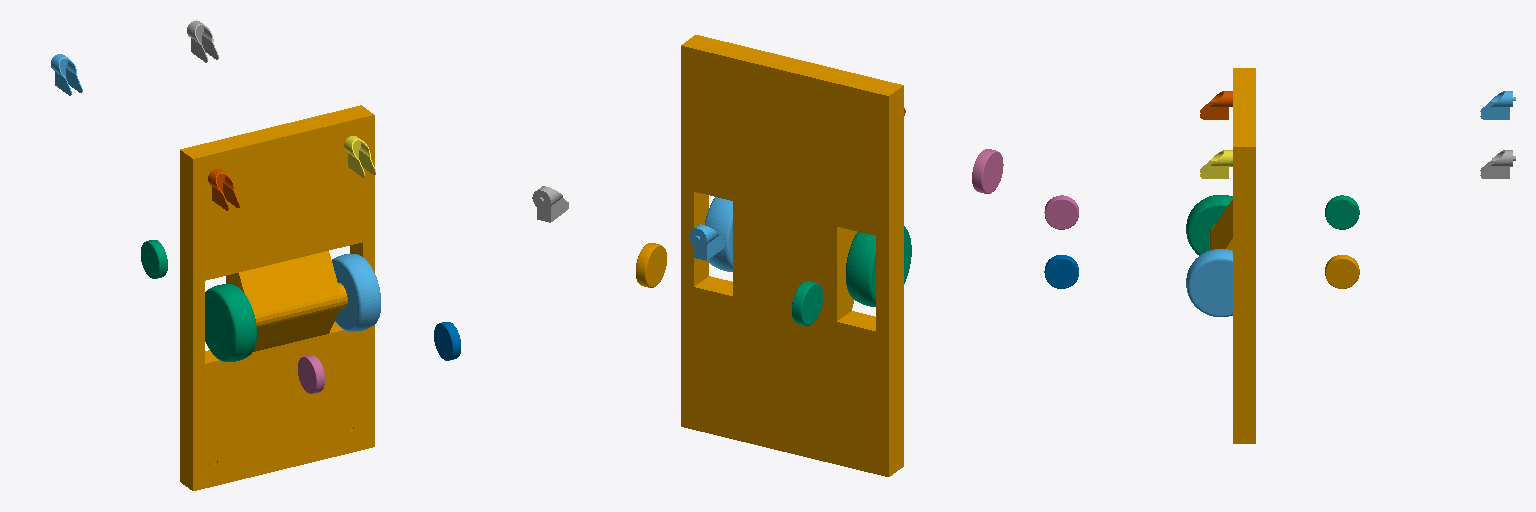
The robot description file, URDF, robot "arc-bot-2":
<?xml version="1.0" ?>
<robot name="arc-bot-2">

  <material name="white">
    <color rgba="0.700 0.700 0.700 1.0"/>
  </material>
  <material name="dark">
    <color rgba="0.1 0.1 0.1 1.0"/>
  </material>
  <material name="metal">
    <color rgba="0.45 0.45 0.45 1.0"/>
  </material>
  <material name="blue">
    <color rgba="0.23 0.23 0.44 1.0"/>
  </material>

  <link name="base_link">
    <inertial>
      <origin xyz="5.959159644551385e-16 -8.513085206501979e-17 0.12187719245645033" rpy="0 0 0"/>
      <mass value="107.34771873814509"/>
      <inertia ixx="4.505164702504547" iyy="1.3309390396719774" izz="5.765242876816964" ixy="-5.445839279532476e-30" iyz="-1.1137872477797035e-15" ixz="3.0444372974824466e-15"/>
    </inertial>
    <visual>
      <origin xyz="0 0 0" rpy="-1.57079632679 0 0"/>
      <geometry>
        <mesh filename="meshes/base_link.stl" scale="0.001 0.001 0.001"/>
      </geometry>
      <material name="white"/>
      <material/>
    </visual>
    <collision>
      <origin xyz="0 0 0" rpy="-1.57079632679 0 0"/>
      <geometry>
        <mesh filename="meshes/base_link.stl" scale="0.001 0.001 0.001"/>
      </geometry>
    </collision>
  </link>

  <!-- DRIVE WHEELS -->

  <link name="drive_wheel_left">
    <inertial>
      <origin xyz="0.025000001258671342 8.399471678820184e-07 2.016479592729936e-05" rpy="0 0 0"/>
      <mass value="6.575317753803416"/>
      <inertia ixx="0.017576695509416068" iyy="0.010097567859487344" izz="0.010097543017547408" ixy="1.746670854310247e-11" iyz="1.8832109802272806e-08" ixz="1.4782201157581554e-09"/>
    </inertial>
    <visual>
      <origin xyz="-0.112 0.0 -0.075" rpy="-1.57079632679 0 0"/>
      <geometry>
        <mesh filename="meshes/drive_wheel2.stl" scale="0.001 0.001 0.001"/>
      </geometry>
      <material name="dark"/>
      <material/>
    </visual>
    <collision>
      <origin xyz="-0.112 0.0 -0.075" rpy="-1.57079632679 0 0"/>
      <geometry>
        <mesh filename="meshes/drive_wheel2.stl" scale="0.001 0.001 0.001"/>
      </geometry>
    </collision>
  </link>

  <link name="drive_wheel_right">
    <inertial>
      <origin xyz="-0.024999998741328702 8.399471678820184e-07 -1.9954997748997116e-05" rpy="0 0 0"/>
      <mass value="6.575317753803416"/>
      <inertia ixx="0.017576695509416068" iyy="0.010097567859487372" izz="0.01009754301754738" ixy="1.746670854320835e-11" iyz="1.8832109802272753e-08" ixz="1.478220143513731e-09"/>
    </inertial>
    <visual>
      <origin xyz="0.112 0.0 -0.075" rpy="-1.57079632679 0 0"/>
      <geometry>
        <mesh filename="meshes/drive_wheel1.stl" scale="0.001 0.001 0.001"/>
      </geometry>
      <material name="dark"/>
      <material/>
    </visual>
    <collision>
      <origin xyz="0.112 0.0 -0.075" rpy="-1.57079632679 0 0"/>
      <geometry>
        <mesh filename="meshes/drive_wheel1.stl" scale="0.001 0.001 0.001"/>
      </geometry>
    </collision>
  </link>

  <!-- CASTER WHEELS -->

  <link name="caster_bracket_fl">
    <inertial>
      <origin xyz="-8.493206138382448e-15 0.010475317633716452 -0.02267541961025038" rpy="0 0 0"/>
      <mass value="0.16207930958391914"/>
      <inertia ixx="9.076311533944524e-05" iyy="6.70912859518898e-05" izz="6.081469735370881e-05" ixy="-1.3877787807814457e-17" iyz="2.600926877512153e-05" ixz="2.862293735361732e-17"/>
    </inertial>
    <visual>
      <origin xyz="-0.15 0.3 -0.105" rpy="-1.57079632679 0 0"/>
      <geometry>
        <mesh filename="meshes/simple_caster_bracket_v51.stl" scale="0.001 0.001 0.001"/>
      </geometry>
      <material name="dark"/>
      <material/>
    </visual>
    <!-- <collision>
    <origin xyz="-0.15 0.3 -0.105" rpy="-1.57079632679 0 0"/>
    <geometry>
      <mesh filename="meshes/simple_caster_bracket_v51.stl" scale="0.001 0.001 0.001"/>
    </geometry>
  </collision> -->
  </link>

  <link name="caster_wheel_fl">
    <inertial>
      <origin xyz="-0.1599999998360872 0.3 -0.1" rpy="0 0 0"/>
      <mass value="0.670125387642777"/>
      <inertia ixx="0.0004554214921724045" iyy="0.00024968084295089177" izz="0.00024968084295089177" ixy="-3.469446951953614e-18" iyz="8.673617379884035e-19" ixz="-4.336808689942018e-19"/>
    </inertial>
    <visual>
      <origin xyz="0.011 0 0" rpy="0 0 0"/>
      <geometry>
        <mesh filename="meshes/simepl_caster_wheel_clean.stl" scale="0.001 0.001 0.001"/>
      </geometry>
      <material name="blue"/>
      <material/>
    </visual>
    <collision>
      <origin xyz="0.011 0 0" rpy="0 0 0"/>
      <geometry>
        <mesh filename="meshes/simepl_caster_wheel_clean.stl" scale="0.001 0.001 0.001"/>
      </geometry>
    </collision>
  </link>

  <link name="caster_bracket_fr">
    <inertial>
      <origin xyz="-8.493206138382448e-15 0.010475317633716452 -0.02267541961025038" rpy="0 0 0"/>
      <mass value="0.16207930958391914"/>
      <inertia ixx="9.076311533944524e-05" iyy="6.70912859518898e-05" izz="6.081469735370881e-05" ixy="-1.3877787807814457e-17" iyz="2.600926877512153e-05" ixz="2.862293735361732e-17"/>
    </inertial>
    <visual>
      <origin xyz="-0.15 0.3 -0.105" rpy="-1.57079632679 0 0"/>
      <geometry>
        <mesh filename="meshes/simple_caster_bracket_v51.stl" scale="0.001 0.001 0.001"/>
      </geometry>
      <material name="dark"/>
      <material/>
    </visual>
    <!-- <collision>
    <origin xyz="-0.15 0.3 -0.105" rpy="-1.57079632679 0 0"/>
    <geometry>
      <mesh filename="meshes/simple_caster_bracket_v51.stl" scale="0.001 0.001 0.001"/>
    </geometry>
  </collision> -->
  </link>

  <link name="caster_wheel_fr">
    <inertial>
      <origin xyz="-0.1599999998360872 0.3 -0.1" rpy="0 0 0"/>
      <mass value="0.670125387642777"/>
      <inertia ixx="0.0004554214921724045" iyy="0.00024968084295089177" izz="0.00024968084295089177" ixy="-3.469446951953614e-18" iyz="8.673617379884035e-19" ixz="-4.336808689942018e-19"/>
    </inertial>
    <visual>
      <origin xyz="-0.011 0 0" rpy="0 0 0"/>
      <geometry>
        <mesh filename="meshes/simepl_caster_wheel_clean.stl" scale="0.001 0.001 0.001"/>
      </geometry>
      <material name="blue"/>
      <material/>
    </visual>
    <collision>
      <origin xyz="0.011 0 0" rpy="0 0 0"/>
      <geometry>
        <mesh filename="meshes/simepl_caster_wheel_clean.stl" scale="0.001 0.001 0.001"/>
      </geometry>
    </collision>
  </link>

  <link name="caster_bracket_bl">
    <inertial>
      <origin xyz="-8.493206138382448e-15 0.010475317633716452 -0.02267541961025038" rpy="0 0 0"/>
      <mass value="0.16207930958391914"/>
      <inertia ixx="9.076311533944524e-05" iyy="6.70912859518898e-05" izz="6.081469735370881e-05" ixy="-1.3877787807814457e-17" iyz="2.600926877512153e-05" ixz="2.862293735361732e-17"/>
    </inertial>
    <visual>
      <origin xyz="-0.15 0.3 -0.105" rpy="-1.57079632679 0 0"/>
      <geometry>
        <mesh filename="meshes/simple_caster_bracket_v51.stl" scale="0.001 0.001 0.001"/>
      </geometry>
      <material name="dark"/>
      <material/>
    </visual>
    <!-- <collision>
    <origin xyz="-0.15 0.3 -0.105" rpy="-1.57079632679 0 0"/>
    <geometry>
      <mesh filename="meshes/simple_caster_bracket_v51.stl" scale="0.001 0.001 0.001"/>
    </geometry>
  </collision> -->
  </link>

  <link name="caster_wheel_bl">
    <inertial>
      <origin xyz="-0.1599999998360872 0.3 -0.1" rpy="0 0 0"/>
      <mass value="0.670125387642777"/>
      <inertia ixx="0.0004554214921724045" iyy="0.00024968084295089177" izz="0.00024968084295089177" ixy="-3.469446951953614e-18" iyz="8.673617379884035e-19" ixz="-4.336808689942018e-19"/>
    </inertial>
    <visual>
      <origin xyz="0.011 0 0" rpy="0 0 0"/>
      <geometry>
        <mesh filename="meshes/simepl_caster_wheel_clean.stl" scale="0.001 0.001 0.001"/>
      </geometry>
      <material name="blue"/>
      <material/>
    </visual>
    <collision>
      <origin xyz="0.011 0 0" rpy="0 0 0"/>
      <geometry>
        <mesh filename="meshes/simepl_caster_wheel_clean.stl" scale="0.001 0.001 0.001"/>
      </geometry>
    </collision>
  </link>

  <link name="caster_bracket_br">
    <inertial>
      <origin xyz="-8.493206138382448e-15 0.010475317633716452 -0.02267541961025038" rpy="0 0 0"/>
      <mass value="0.16207930958391914"/>
      <inertia ixx="9.076311533944524e-05" iyy="6.70912859518898e-05" izz="6.081469735370881e-05" ixy="-1.3877787807814457e-17" iyz="2.600926877512153e-05" ixz="2.862293735361732e-17"/>
    </inertial>
    <visual>
      <origin xyz="-0.15 0.3 -0.105" rpy="-1.57079632679 0 0"/>
      <geometry>
        <mesh filename="meshes/simple_caster_bracket_v51.stl" scale="0.001 0.001 0.001"/>
      </geometry>
      <material name="dark"/>
      <material/>
    </visual>
    <!-- <collision>
    <origin xyz="-0.15 0.3 -0.105" rpy="-1.57079632679 0 0"/>
    <geometry>
      <mesh filename="meshes/simple_caster_bracket_v51.stl" scale="0.001 0.001 0.001"/>
    </geometry>
  </collision> -->
  </link>

  <link name="caster_wheel_br">
    <inertial>
      <origin xyz="-0.1599999998360872 0.3 -0.1" rpy="0 0 0"/>
      <mass value="0.670125387642777"/>
      <inertia ixx="0.0004554214921724045" iyy="0.00024968084295089177" izz="0.00024968084295089177" ixy="-3.469446951953614e-18" iyz="8.673617379884035e-19" ixz="-4.336808689942018e-19"/>
    </inertial>
    <visual>
      <origin xyz="-0.011 0 0" rpy="0 0 0"/>
      <geometry>
        <mesh filename="meshes/simepl_caster_wheel_clean.stl" scale="0.001 0.001 0.001"/>
      </geometry>
      <material name="blue"/>
      <material/>
    </visual>
    <collision>
      <origin xyz="0.011 0 0" rpy="0 0 0"/>
      <geometry>
        <mesh filename="meshes/simepl_caster_wheel_clean.stl" scale="0.001 0.001 0.001"/>
      </geometry>
    </collision>
  </link>

  <!-- DRIVE JOINTS -->

  <joint name="Revolute_left" type="continuous">
    <origin xyz="0.112 0.0 0.075" rpy="0 0 0"/>
    <parent link="base_link"/>
    <child link="drive_wheel_left"/>
    <axis xyz="1.0 0.0 0.0"/>
  </joint>
  <transmission name="Revolute_left_tran">
    <type>transmission_interface/SimpleTransmission</type>
    <joint name="Revolute_left">
      <hardwareInterface>PositionJointInterface</hardwareInterface>
    </joint>
    <actuator name="Revolute_left_actr">
      <hardwareInterface>PositionJointInterface</hardwareInterface>
      <mechanicalReduction>1</mechanicalReduction>
    </actuator>
  </transmission>

  <joint name="Revolute_right" type="continuous">
    <origin xyz="-0.112 0.0 0.075" rpy="0 0 0"/>
    <parent link="base_link"/>
    <child link="drive_wheel_right"/>
    <axis xyz="-1.0 0.0 0.0"/>
  </joint>
  <transmission name="Revolute_right_tran">
    <type>transmission_interface/SimpleTransmission</type>
    <joint name="Revolute_right">
      <hardwareInterface>PositionJointInterface</hardwareInterface>
    </joint>
    <actuator name="Revolute_right_actr">
      <hardwareInterface>PositionJointInterface</hardwareInterface>
      <mechanicalReduction>1</mechanicalReduction>
    </actuator>
  </transmission>

  <!-- CASTER JOINTS -->

  <joint name="Revolute_caster_fl" type="continuous">
    <origin xyz="0.15 -0.3 0.105" rpy="0 0 0"/>
    <parent link="base_link"/>
    <child link="caster_bracket_fl"/>
    <axis xyz="0.0 0.0 -1.0"/>
  </joint>
  <transmission name="Revolute_caster_fl_tran">
    <type>transmission_interface/SimpleTransmission</type>
    <joint name="Revolute_caster_fl">
      <hardwareInterface>PositionJointInterface</hardwareInterface>
    </joint>
    <actuator name="Revolute_caster_fl_actr">
      <hardwareInterface>PositionJointInterface</hardwareInterface>
      <mechanicalReduction>1</mechanicalReduction>
    </actuator>
  </transmission>

  <joint name="Revolute_caster_wheel_fl" type="continuous">
    <origin xyz="-0.011 0.0345 -0.0725" rpy="0 0 0"/>
    <parent link="caster_bracket_fl"/>
    <child link="caster_wheel_fl"/>
    <axis xyz="-1.0 0.0 0.0"/>
  </joint>
  <transmission name="Revolute_caster_wheel_fl_tran">
    <type>transmission_interface/SimpleTransmission</type>
    <joint name="Revolute_caster_wheel_fl">
      <hardwareInterface>PositionJointInterface</hardwareInterface>
    </joint>
    <actuator name="Revolute_caster_wheel_fl_actr">
      <hardwareInterface>PositionJointInterface</hardwareInterface>
      <mechanicalReduction>1</mechanicalReduction>
    </actuator>
  </transmission>

  <joint name="Revolute_caster_fr" type="continuous">
    <origin xyz="-0.15 -0.3 0.105" rpy="0 0 0"/>
    <parent link="base_link"/>
    <child link="caster_bracket_fr"/>
    <axis xyz="0.0 0.0 -1.0"/>
  </joint>
  <transmission name="Revolute_caster_fr_tran">
    <type>transmission_interface/SimpleTransmission</type>
    <joint name="Revolute_caster_fr">
      <hardwareInterface>PositionJointInterface</hardwareInterface>
    </joint>
    <actuator name="Revolute_caster_fr_actr">
      <hardwareInterface>PositionJointInterface</hardwareInterface>
      <mechanicalReduction>1</mechanicalReduction>
    </actuator>
  </transmission>

  <joint name="Revolute_caster_wheel_fr" type="continuous">
    <origin xyz="0.011 0.0345 -0.0725" rpy="0 0 0"/>
    <parent link="caster_bracket_fr"/>
    <child link="caster_wheel_fr"/>
    <axis xyz="-1.0 0.0 0.0"/>
  </joint>
  <transmission name="Revolute_caster_wheel_fr_tran">
    <type>transmission_interface/SimpleTransmission</type>
    <joint name="Revolute_caster_wheel_fr">
      <hardwareInterface>PositionJointInterface</hardwareInterface>
    </joint>
    <actuator name="Revolute_caster_wheel_fr_actr">
      <hardwareInterface>PositionJointInterface</hardwareInterface>
      <mechanicalReduction>1</mechanicalReduction>
    </actuator>
  </transmission>

  <joint name="Revolute_caster_bl" type="continuous">
    <origin xyz="0.15 0.3 0.105" rpy="0 0 0"/>
    <parent link="base_link"/>
    <child link="caster_bracket_bl"/>
    <axis xyz="0.0 0.0 -1.0"/>
  </joint>
  <transmission name="Revolute_caster_bl_tran">
    <type>transmission_interface/SimpleTransmission</type>
    <joint name="Revolute_caster_bl">
      <hardwareInterface>PositionJointInterface</hardwareInterface>
    </joint>
    <actuator name="Revolute_caster_bl_actr">
      <hardwareInterface>PositionJointInterface</hardwareInterface>
      <mechanicalReduction>1</mechanicalReduction>
    </actuator>
  </transmission>

  <joint name="Revolute_caster_wheel_bl" type="continuous">
    <origin xyz="-0.011 0.0345 -0.0725" rpy="0 0 0"/>
    <parent link="caster_bracket_bl"/>
    <child link="caster_wheel_bl"/>
    <axis xyz="-1.0 0.0 0.0"/>
  </joint>
  <transmission name="Revolute_caster_wheel_bl_tran">
    <type>transmission_interface/SimpleTransmission</type>
    <joint name="Revolute_caster_wheel_bl">
      <hardwareInterface>PositionJointInterface</hardwareInterface>
    </joint>
    <actuator name="Revolute_caster_wheel_bl_actr">
      <hardwareInterface>PositionJointInterface</hardwareInterface>
      <mechanicalReduction>1</mechanicalReduction>
    </actuator>
  </transmission>

  <joint name="Revolute_caster_br" type="continuous">
    <origin xyz="-0.15 0.3 0.105" rpy="0 0 0"/>
    <parent link="base_link"/>
    <child link="caster_bracket_br"/>
    <axis xyz="0.0 0.0 -1.0"/>
  </joint>
  <transmission name="Revolute_caster_br_tran">
    <type>transmission_interface/SimpleTransmission</type>
    <joint name="Revolute_caster_br">
      <hardwareInterface>PositionJointInterface</hardwareInterface>
    </joint>
    <actuator name="Revolute_caster_br_actr">
      <hardwareInterface>PositionJointInterface</hardwareInterface>
      <mechanicalReduction>1</mechanicalReduction>
    </actuator>
  </transmission>

  <joint name="Revolute_caster_wheel_br" type="continuous">
    <origin xyz="0.011 0.0345 -0.0725" rpy="0 0 0"/>
    <parent link="caster_bracket_br"/>
    <child link="caster_wheel_br"/>
    <axis xyz="-1.0 0.0 0.0"/>
  </joint>
  <transmission name="Revolute_caster_wheel_br_tran">
    <type>transmission_interface/SimpleTransmission</type>
    <joint name="Revolute_caster_wheel_br">
      <hardwareInterface>PositionJointInterface</hardwareInterface>
    </joint>
    <actuator name="Revolute_caster_wheel_br_actr">
      <hardwareInterface>PositionJointInterface</hardwareInterface>
      <mechanicalReduction>1</mechanicalReduction>
    </actuator>
  </transmission>

</robot>

--- Facts derived from the render (not from the file) ---
3 views of the same robot in one strip: view 1: azimuth 30°, elevation 25°; view 2: azimuth 150°, elevation 25°; view 3: azimuth 270°, elevation 25° (orthographic).
Robot: arc-bot-2 — 11 links, 10 joints (10 continuous); root link base_link; default pose: every joint at zero.
Links seen in each view (by area): view 1: base_link, drive_wheel_right, drive_wheel_left, caster_wheel_fl, caster_wheel_fr, caster_wheel_br, caster_bracket_fl, caster_bracket_fr, caster_bracket_bl, caster_bracket_br; view 2: base_link, drive_wheel_right, drive_wheel_left, caster_wheel_fr, caster_wheel_bl, caster_wheel_br, caster_bracket_bl, caster_bracket_br; view 3: base_link, drive_wheel_left, drive_wheel_right, caster_wheel_bl, caster_wheel_fr, caster_wheel_br, caster_wheel_fl, caster_bracket_br, caster_bracket_bl, caster_bracket_fl, caster_bracket_fr.
Boxes of the visible links, x1,y1,x2,y2 form: base_link: (180, 105, 374, 490); drive_wheel_right: (205, 284, 256, 361); drive_wheel_left: (332, 254, 380, 331); caster_wheel_fl: (434, 322, 460, 360); caster_wheel_fr: (298, 355, 324, 393); caster_wheel_br: (141, 240, 167, 278); caster_bracket_fl: (344, 136, 375, 177); caster_bracket_fr: (208, 169, 239, 210); caster_bracket_bl: (187, 20, 218, 62); caster_bracket_br: (51, 54, 82, 95); base_link: (681, 35, 903, 476); drive_wheel_right: (846, 226, 911, 306); drive_wheel_left: (705, 197, 732, 271); caster_wheel_fr: (972, 149, 1003, 193); caster_wheel_bl: (636, 243, 666, 287); caster_wheel_br: (792, 281, 822, 325); caster_bracket_bl: (532, 186, 568, 222); caster_bracket_br: (689, 224, 724, 260); base_link: (1209, 68, 1255, 443); drive_wheel_left: (1186, 249, 1232, 316); drive_wheel_right: (1186, 195, 1232, 255); caster_wheel_bl: (1325, 255, 1359, 288); caster_wheel_fr: (1044, 195, 1078, 229); caster_wheel_br: (1325, 195, 1359, 229); caster_wheel_fl: (1044, 255, 1078, 288); caster_bracket_br: (1480, 91, 1515, 119); caster_bracket_bl: (1480, 150, 1515, 178); caster_bracket_fl: (1200, 150, 1232, 178); caster_bracket_fr: (1200, 91, 1232, 119).
Size in the robot's own frame: 0.4 by 1.01 by 0.7 metres.
Meshes: 5 distinct files referenced, 11 mesh visuals loaded (5 binary STL).